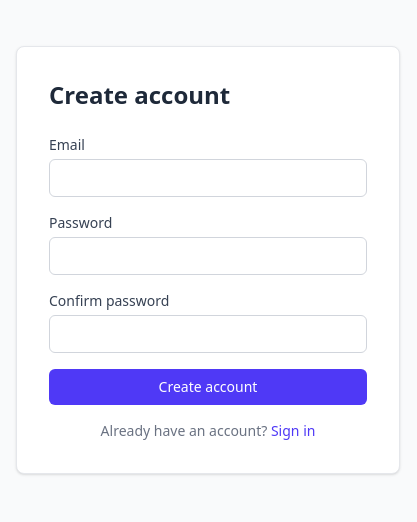
Test: RegisterPage › shows a validation error when passwords do not match
Type "new@example.com" into the field labelled "Email" at (208, 178), box top-left (49, 159), bottom-right (367, 197)
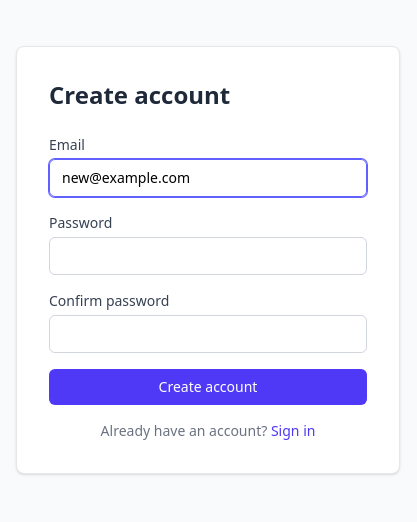
Type "password123" into the password field labelled "Password" at (208, 256), box top-left (49, 237), bottom-right (367, 275)
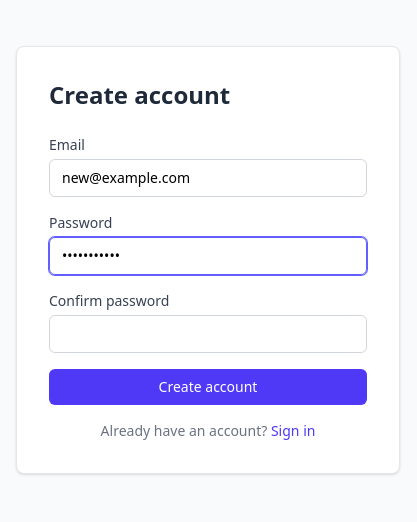
Type "different456" into the password field labelled "Confirm password" at (208, 334), box top-left (49, 315), bottom-right (367, 353)
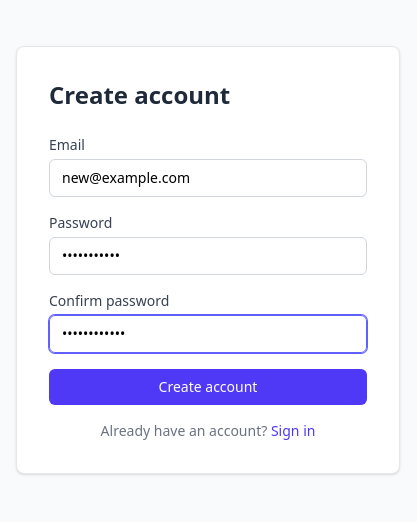
Click the button "Create account" at (208, 387), box top-left (49, 369), bottom-right (367, 405)
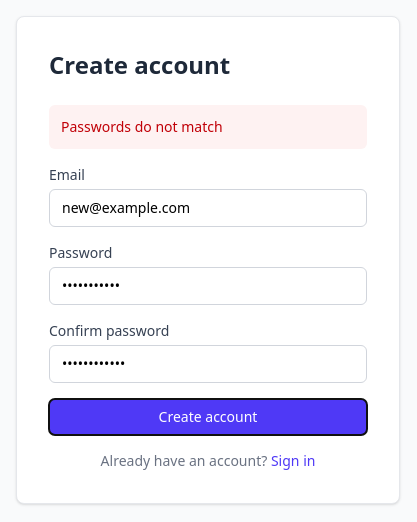
Result: the message "Passwords do not match" is shown at top-left (49, 105), bottom-right (367, 149)
